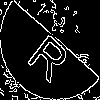R: (25, 25, 78, 84)
